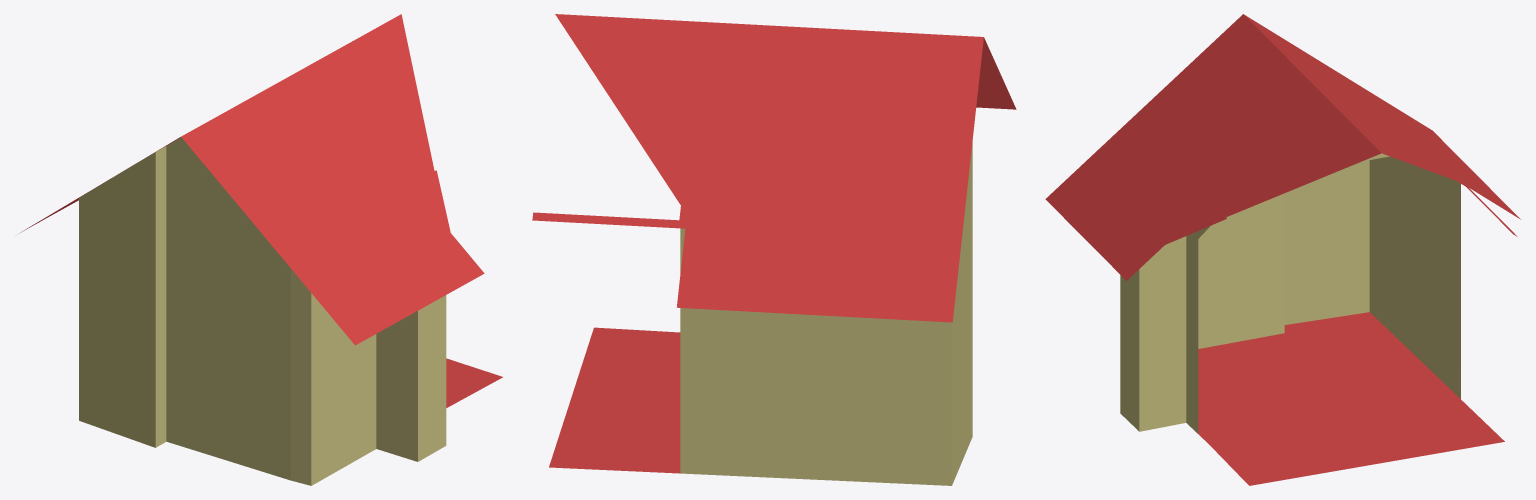
3 renders of one model, left to right at view 1: azimuth 30°, elevation 25°; view 2: azimuth 150°, elevation 25°; view 3: azimuth 270°, elevation 25°, orthographic. The views are drawn at different scales.
Bounding box in the file's own units: 19.32 × 20.52 × 15.02.
